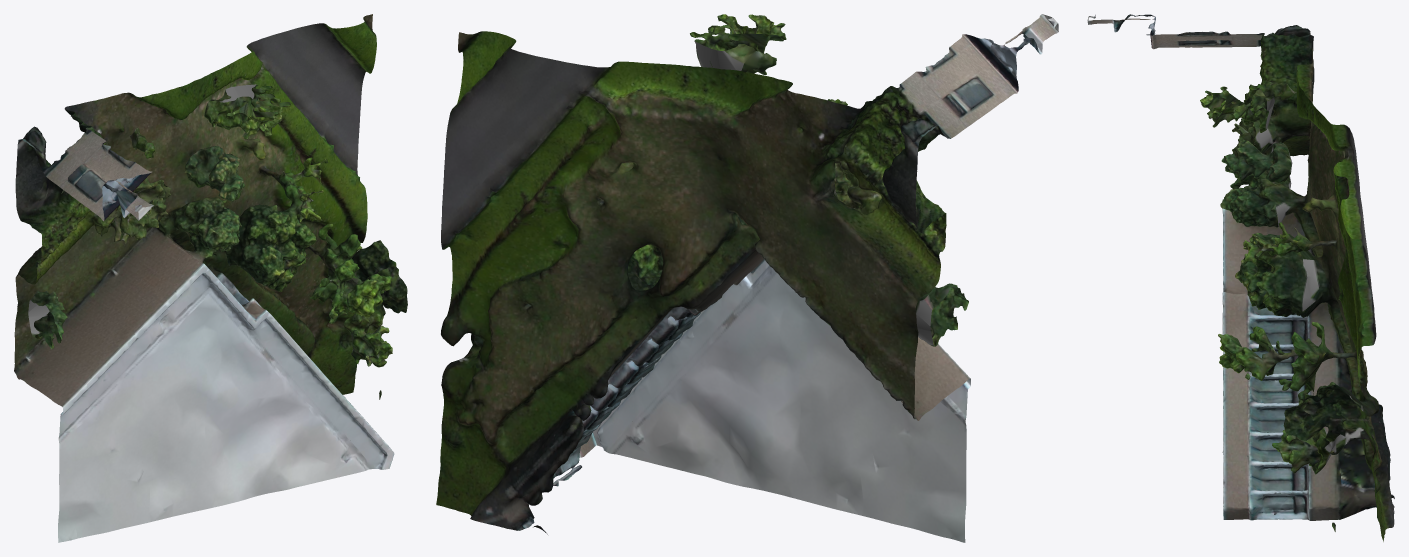
The model's file is Tile_+014_+018.fbx.
3 renders of one model, left to right at view 1: azimuth 30°, elevation 25°; view 2: azimuth 150°, elevation 25°; view 3: azimuth 270°, elevation 25°, orthographic. The views are drawn at different scales.
Visible parts, largest first — view 1: DefaultName; view 2: DefaultName; view 3: DefaultName.
Part boxes in pixels (x1,y1,x2,y2): DefaultName: (14,14,407,542); DefaultName: (436,14,1058,542); DefaultName: (1087,14,1394,541).
Size of the model in its own units: 22.54 by 22.54 by 17.39.
